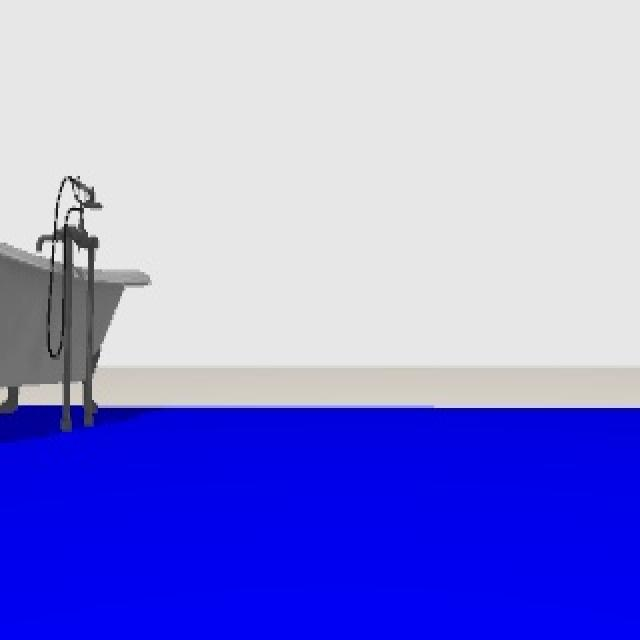bathtub: (0, 172, 153, 438)
